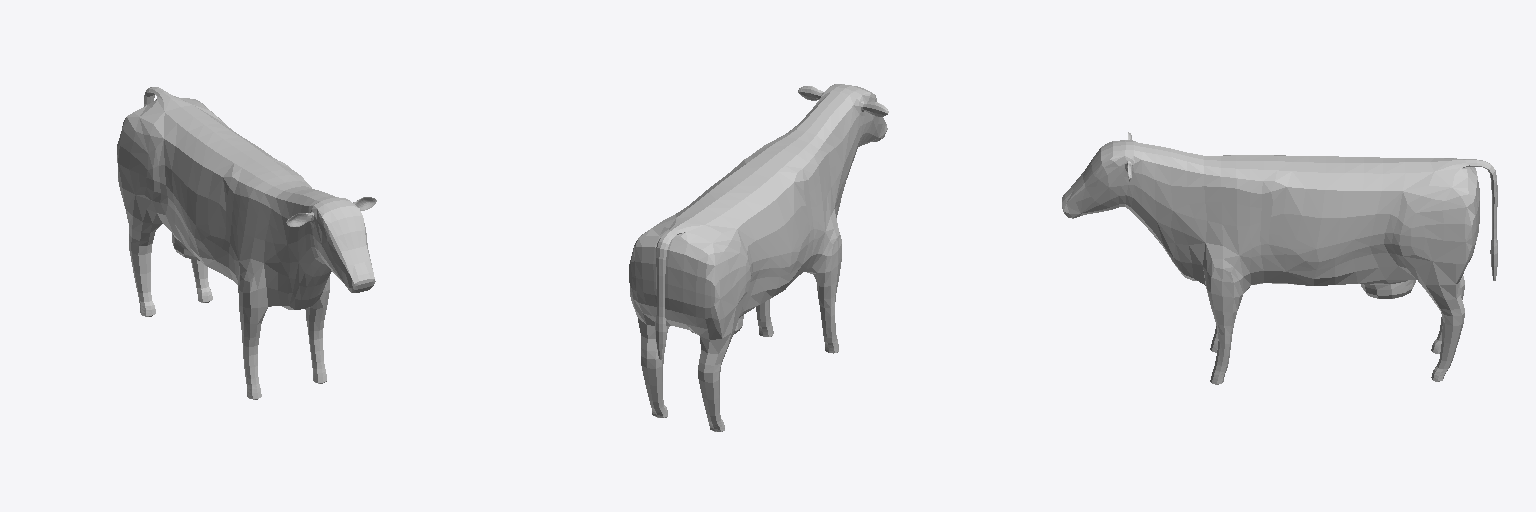
Rendered from COW SMOOTH.obj.
3 views of the same model, side by side, from view 1: azimuth 30°, elevation 25°; view 2: azimuth 150°, elevation 25°; view 3: azimuth 270°, elevation 25° (orthographic).
Parts seen in each view (by area): view 1: Cow; view 2: Cow; view 3: Cow.
Part boxes in pixels (left/top/right/bottom): Cow: left=117, top=87, right=376, bottom=399; Cow: left=629, top=84, right=888, bottom=431; Cow: left=1062, top=132, right=1497, bottom=384.
Bounding box in the file's own units: 218 × 510 × 910.